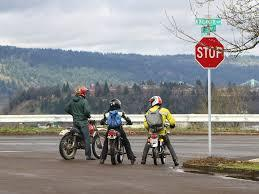Pole: (208, 70, 212, 158)
Sign: (194, 36, 225, 70)
